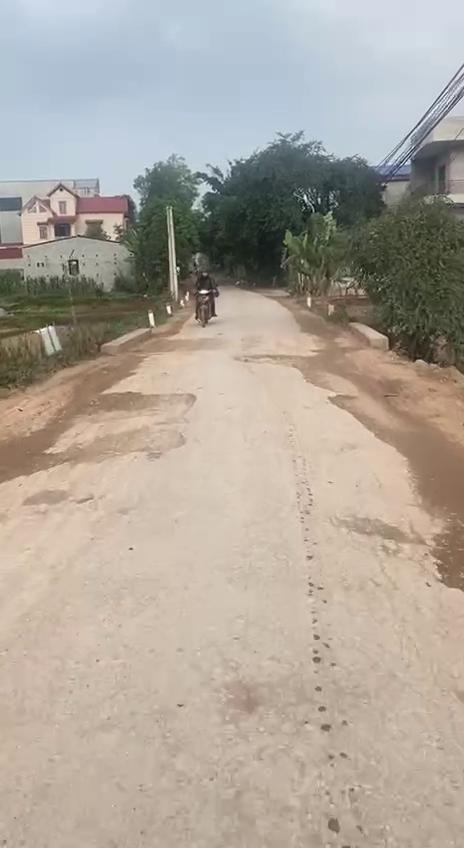pothole: (57, 419, 198, 470), (90, 386, 204, 420)
